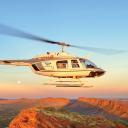helicopter: (1, 26, 125, 88)
